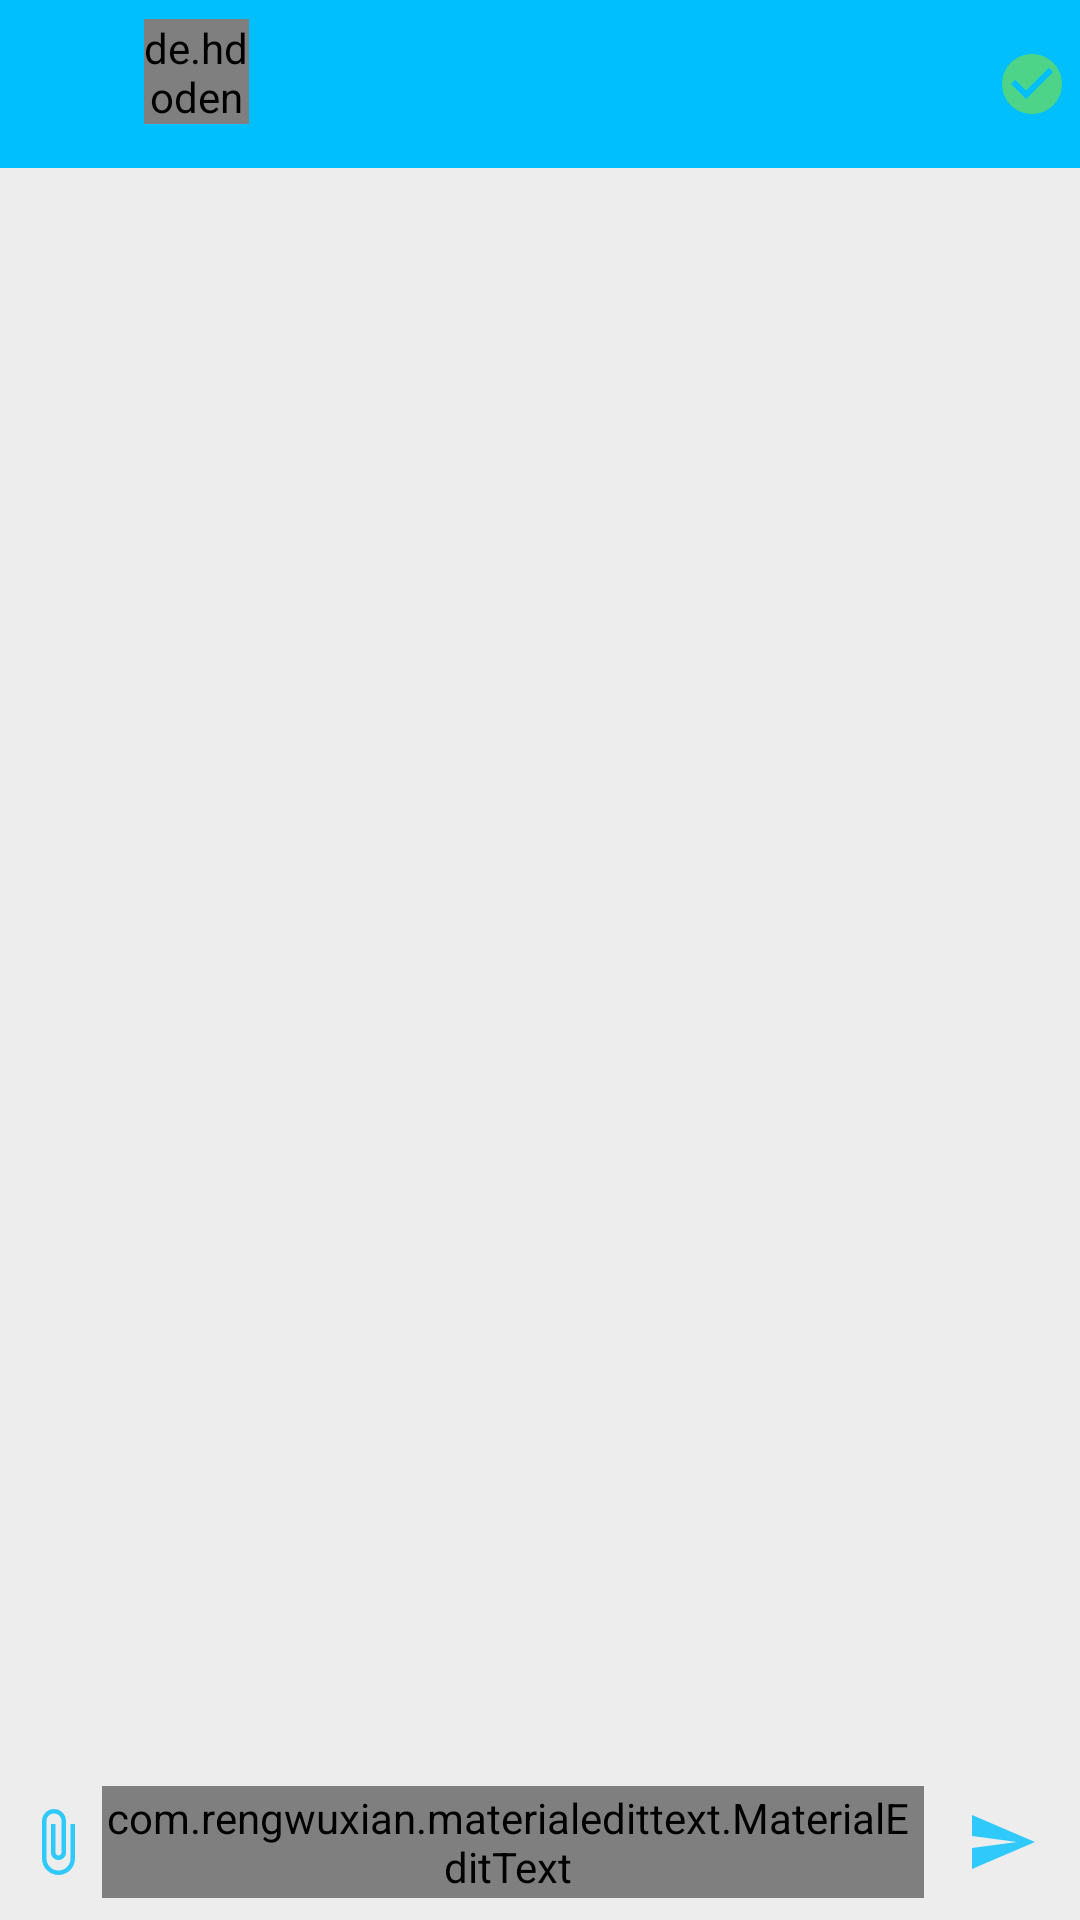

Screen size 1080px×1920px. Icon name, then its center in pixels as (x=x, y=y):
attach file: (x=58, y=1842)
send Message: (x=1003, y=1842)
Unblocked: (x=1032, y=84)
